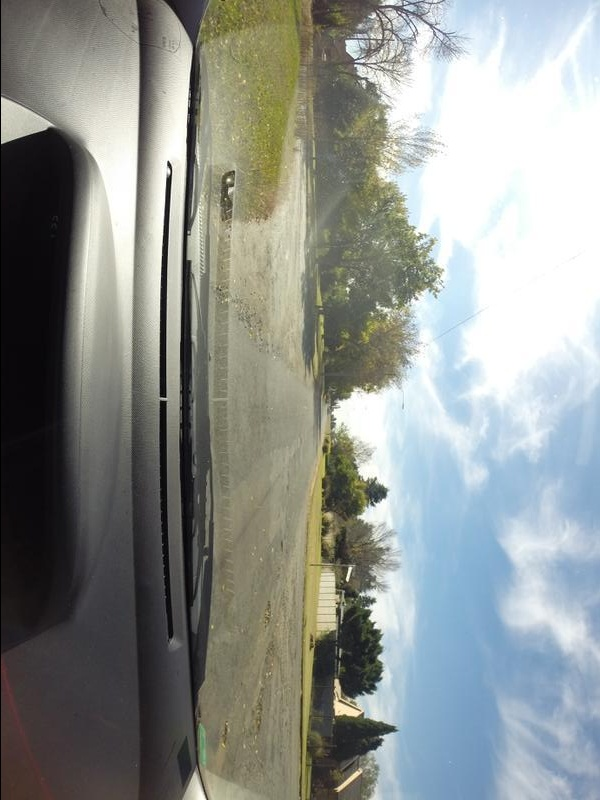pothole: (249, 702, 269, 745), (260, 597, 276, 640), (218, 718, 234, 752)
